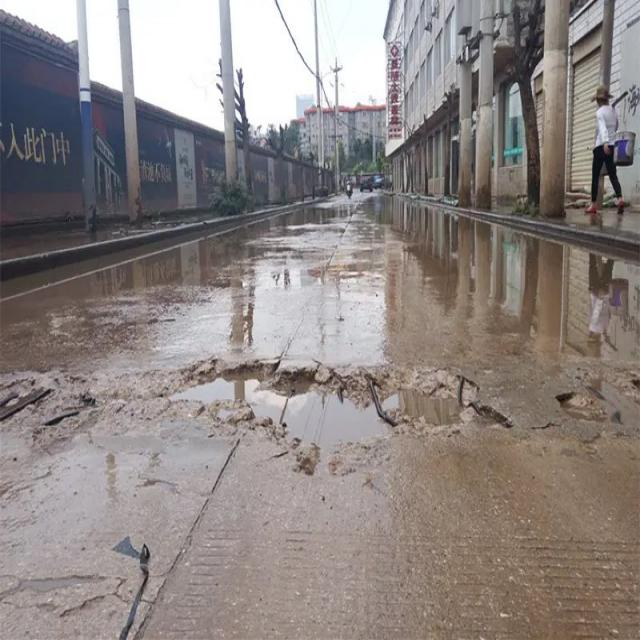Pothole: (158, 356, 517, 476), (1, 373, 128, 453), (554, 389, 611, 426)
